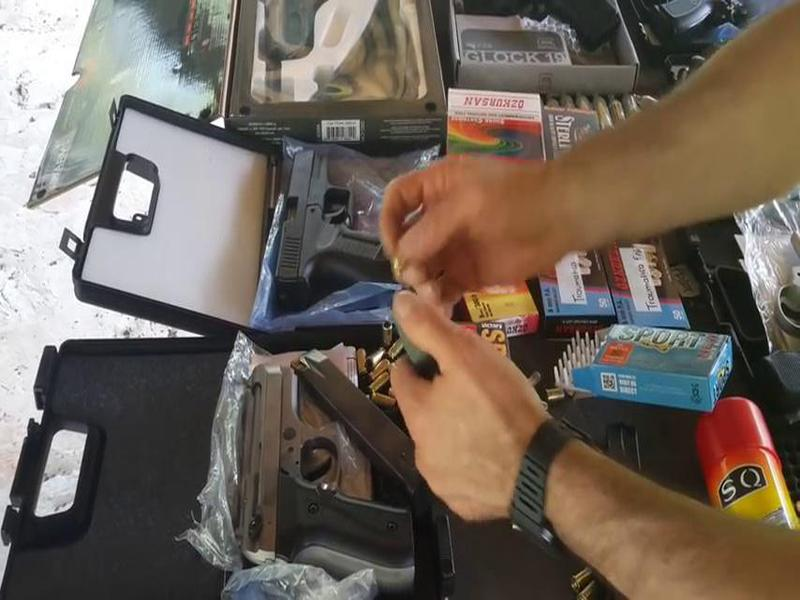Pistola: (197, 334, 435, 594), (265, 134, 406, 304)
